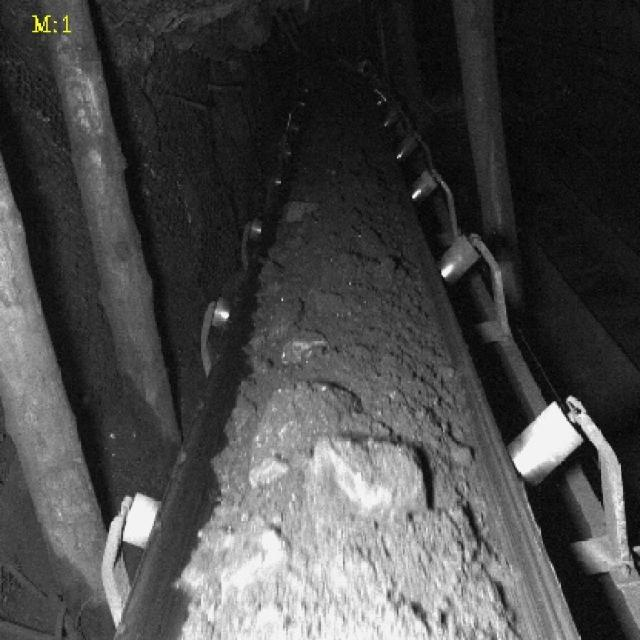large_sized_coal: (251, 386, 357, 486), (312, 435, 428, 520)
